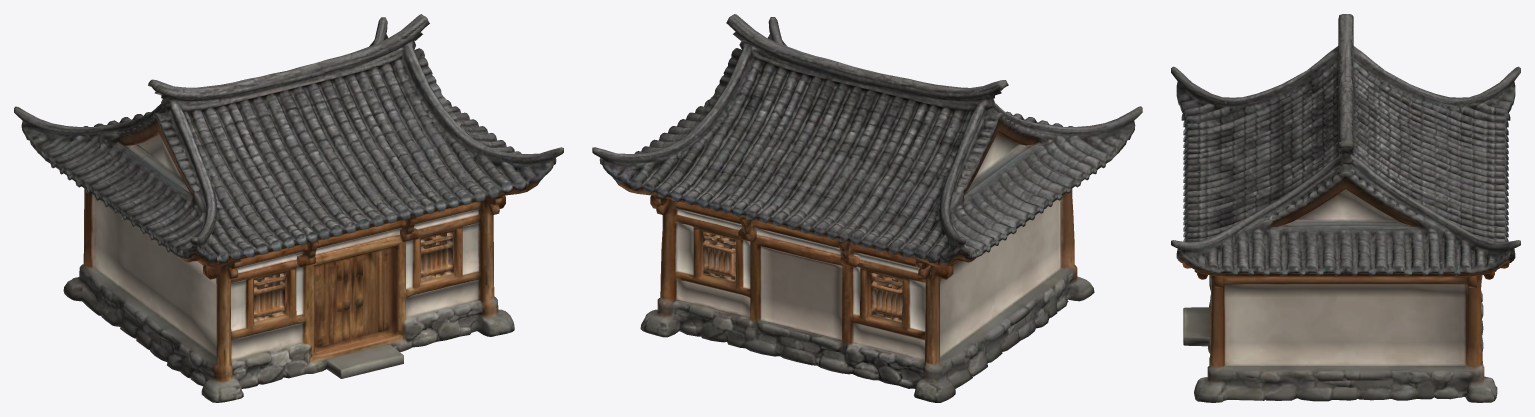
File: house.glb
3 renders of one model, left to right at view 1: azimuth 30°, elevation 25°; view 2: azimuth 150°, elevation 25°; view 3: azimuth 270°, elevation 25°, orthographic. The views are drawn at different scales.
Parts seen in each view (by area): view 1: tripo_node_167c0fb2-bb85-440a-85b4-90324b200d97; view 2: tripo_node_167c0fb2-bb85-440a-85b4-90324b200d97; view 3: tripo_node_167c0fb2-bb85-440a-85b4-90324b200d97.
Boxes of the visible parts, x1,y1,x2,y2 form: tripo_node_167c0fb2-bb85-440a-85b4-90324b200d97: [14, 14, 563, 402]; tripo_node_167c0fb2-bb85-440a-85b4-90324b200d97: [592, 14, 1142, 402]; tripo_node_167c0fb2-bb85-440a-85b4-90324b200d97: [1171, 14, 1520, 402].
Bounding box in the file's own units: 0.9781 × 0.6604 × 0.8212.
1 material, 1 textured.
